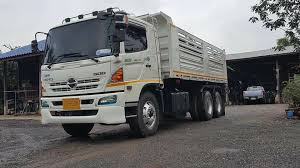truck: (38, 9, 229, 138)
